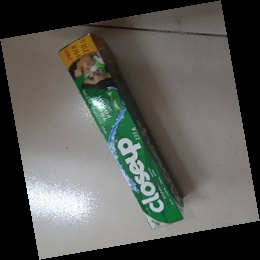CloseUp Xanh: (57, 33, 185, 230)
